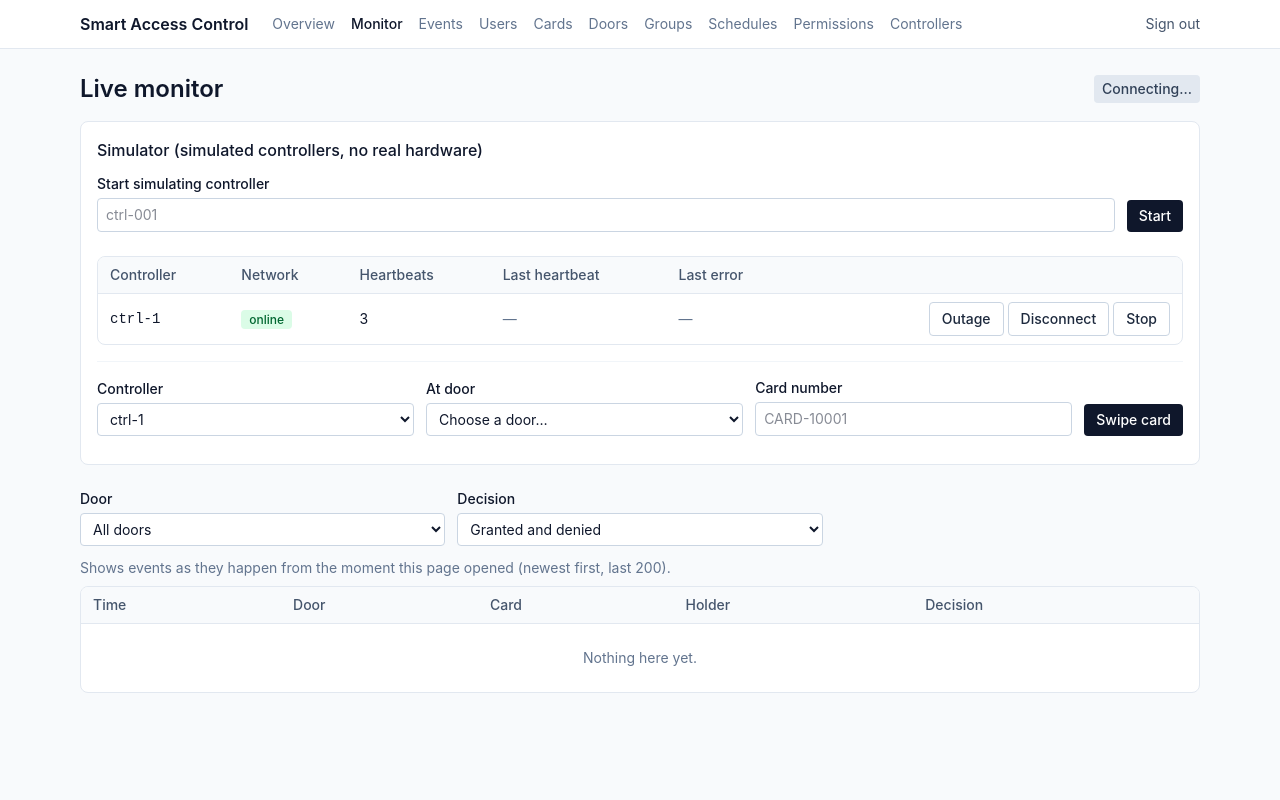
Test: simulator panel › swipes a card at one of the controller's own doors and shows the result
Select "Main Entrance" in the dropdown labelled "At door" at (585, 420), box [426, 403, 743, 436]
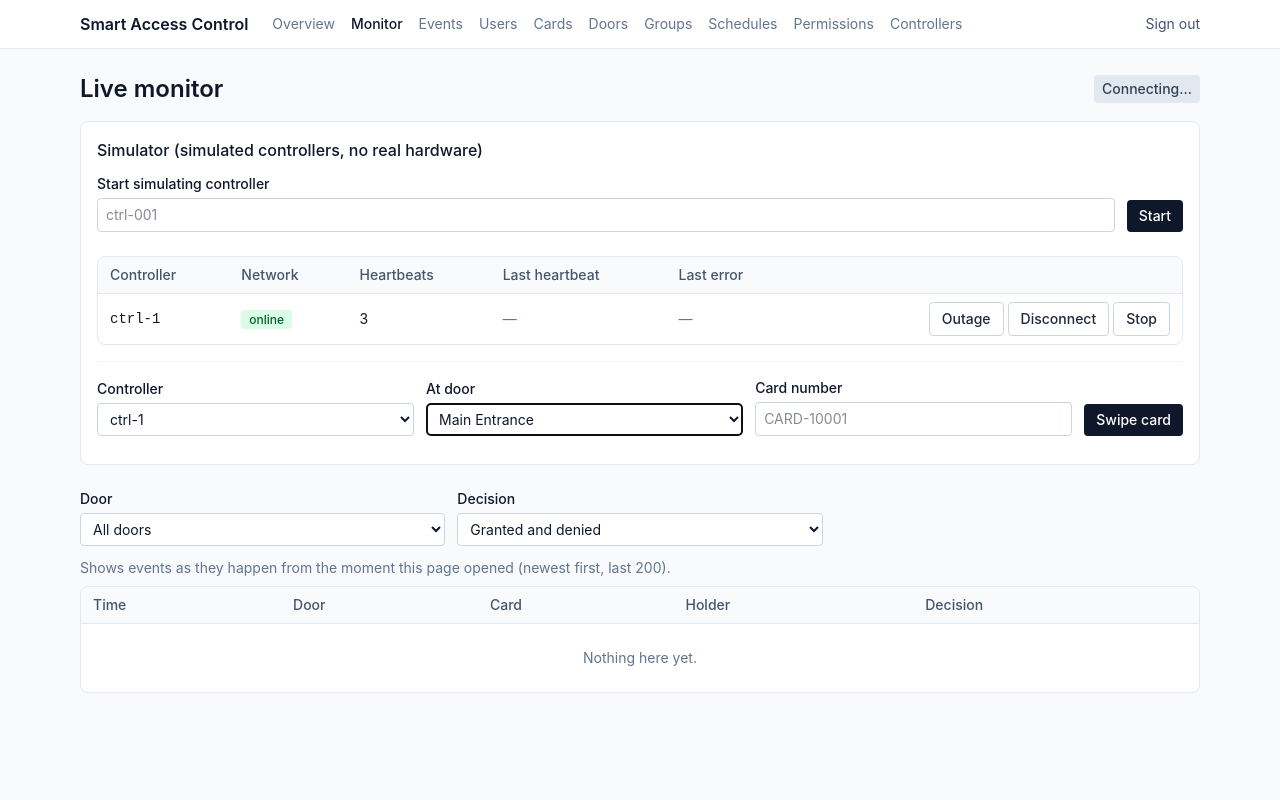
Type "CARD-1" into the field labelled "Card number" at (914, 419), box [755, 402, 1072, 436]
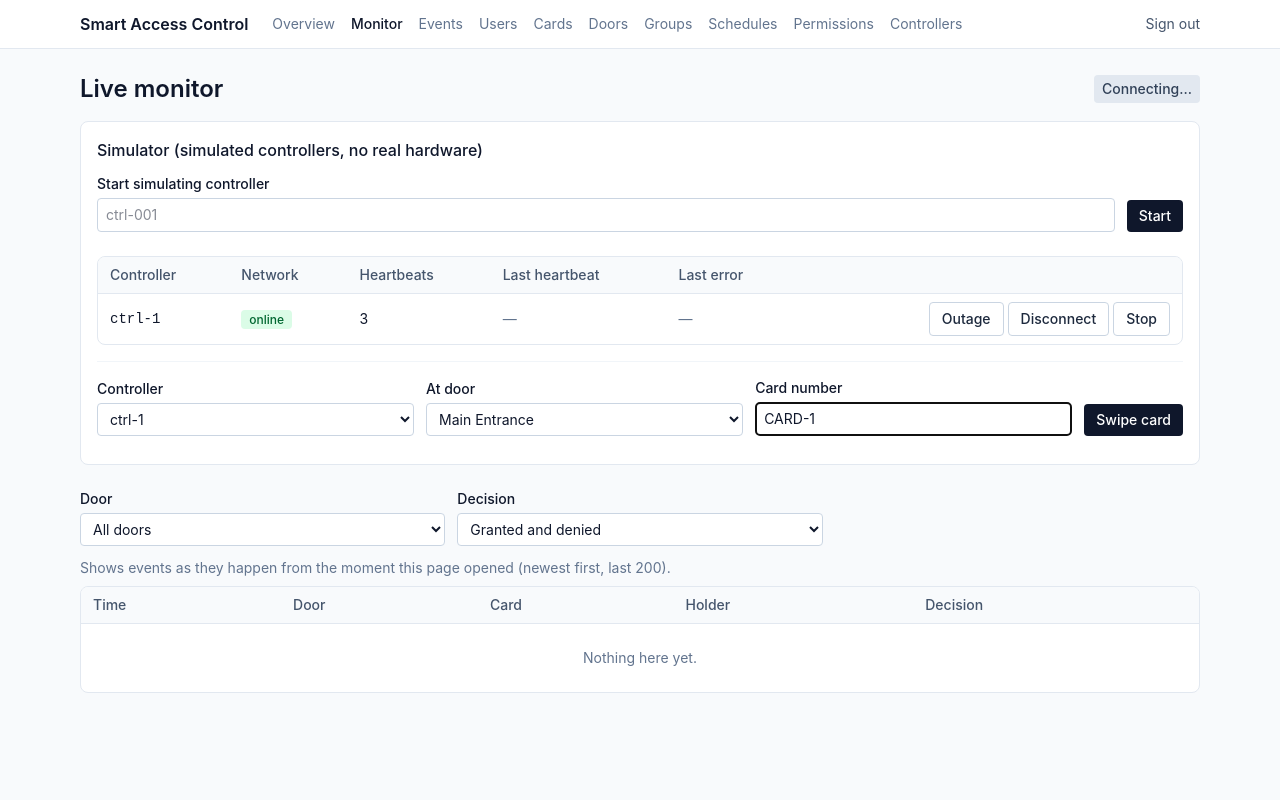
Click the button "Swipe card" at (1134, 420), box [1084, 404, 1183, 436]
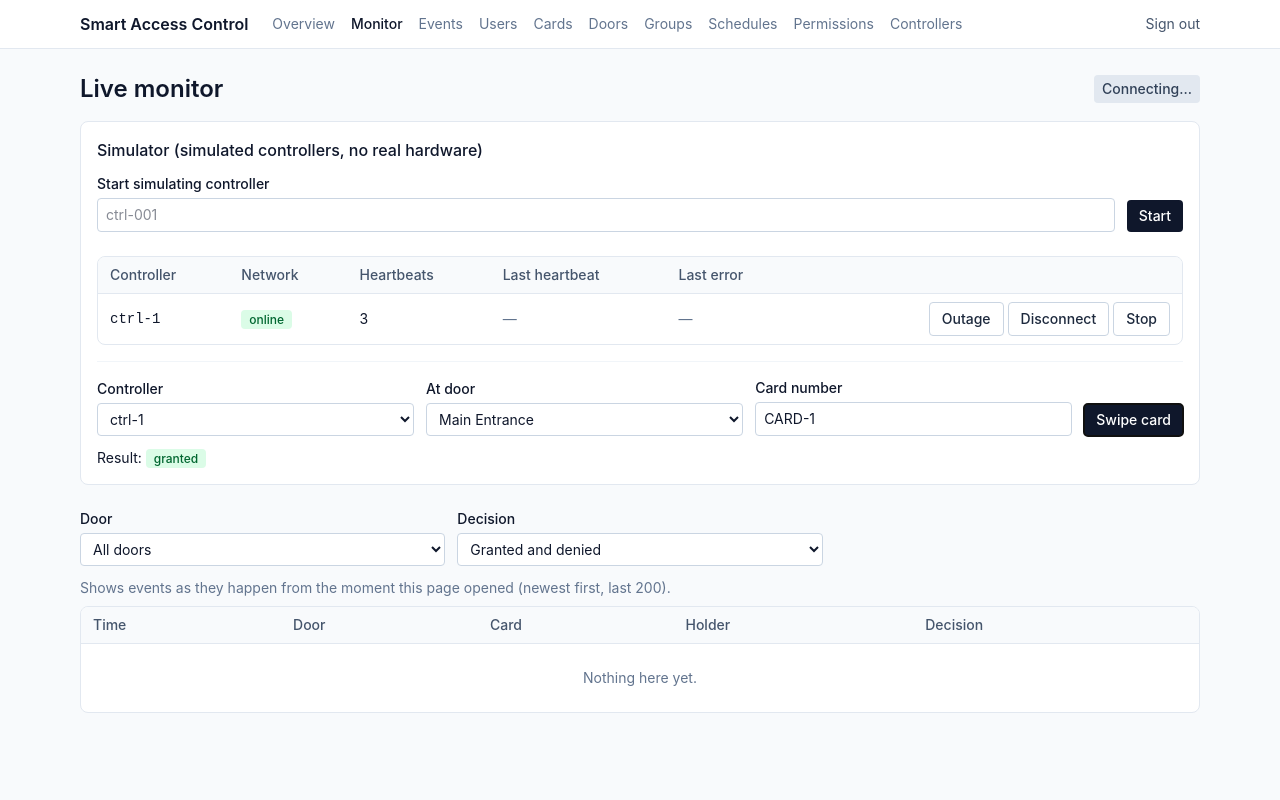
Expected: the text "Result: granted" is shown, [97, 449, 206, 468]
